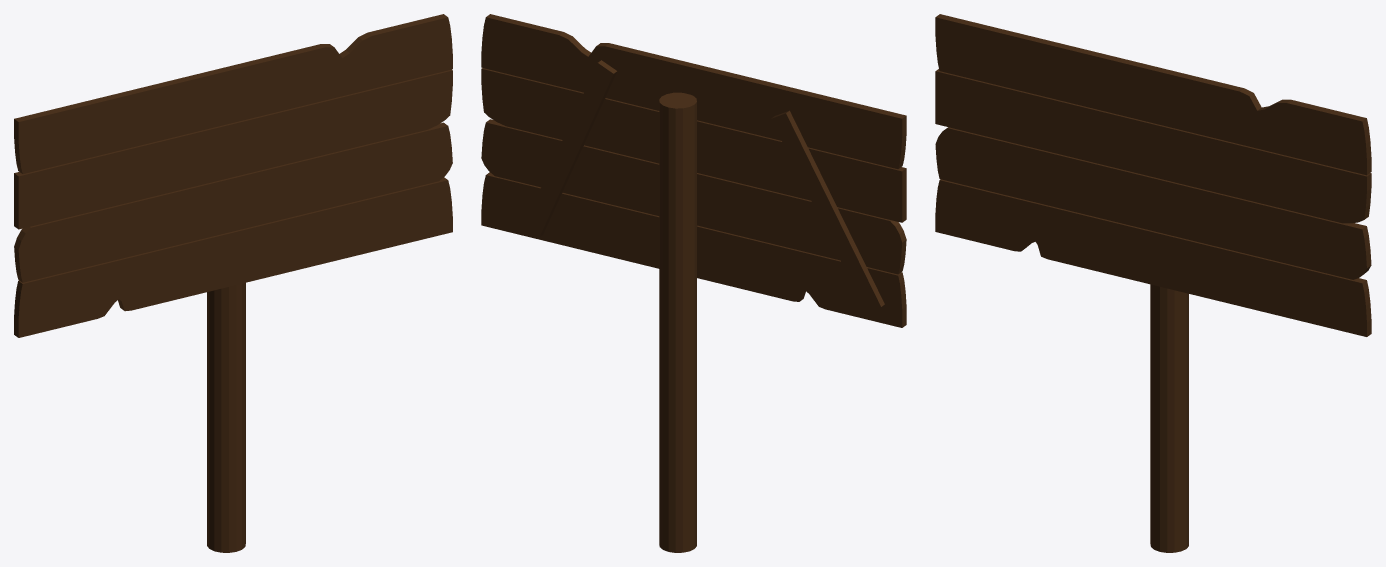
Rendered from plate.fbx.
The picture shows the model from 3 angles, left to right: view 1: azimuth 30°, elevation 25°; view 2: azimuth 150°, elevation 25°; view 3: azimuth 330°, elevation 25°; orthographic projection. The views are drawn at different scales.
Parts seen in each view (by area): view 1: Cylinder.022; view 2: Cylinder.022; view 3: Cylinder.022.
Boxes of the visible parts, <box> form: Cylinder.022: <box>14,14,452,552</box>; Cylinder.022: <box>481,14,906,552</box>; Cylinder.022: <box>935,14,1371,552</box>.
Bounding box in the file's own units: 155 × 166 × 14.74.
